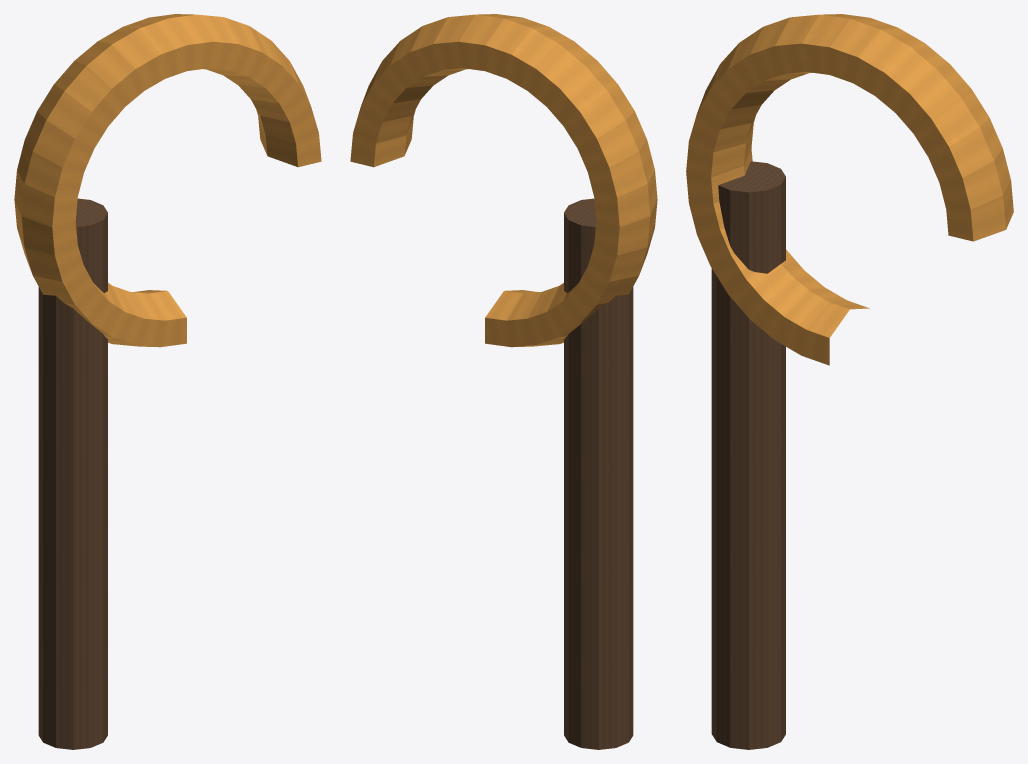
Rendered from atlas100-s012-a05.glb.
3 renders of one model, left to right at view 1: azimuth 30°, elevation 25°; view 2: azimuth 150°, elevation 25°; view 3: azimuth 330°, elevation 25°, orthographic. The views are drawn at different scales.
Visible parts, largest first — view 1: atlas100-s012-a05:part-001, atlas100-s012-a05:part-000; view 2: atlas100-s012-a05:part-001, atlas100-s012-a05:part-000; view 3: atlas100-s012-a05:part-001, atlas100-s012-a05:part-000.
Boxes of the visible parts, bbox=[...] form: atlas100-s012-a05:part-001: bbox=[14, 14, 321, 347]; atlas100-s012-a05:part-000: bbox=[38, 198, 107, 749]; atlas100-s012-a05:part-001: bbox=[350, 14, 657, 347]; atlas100-s012-a05:part-000: bbox=[564, 198, 633, 749]; atlas100-s012-a05:part-001: bbox=[686, 14, 1013, 365]; atlas100-s012-a05:part-000: bbox=[711, 161, 785, 749].
Size of the model in its own units: 0.3713 by 0.8408 by 0.0832.
2 materials, 2 textured.
